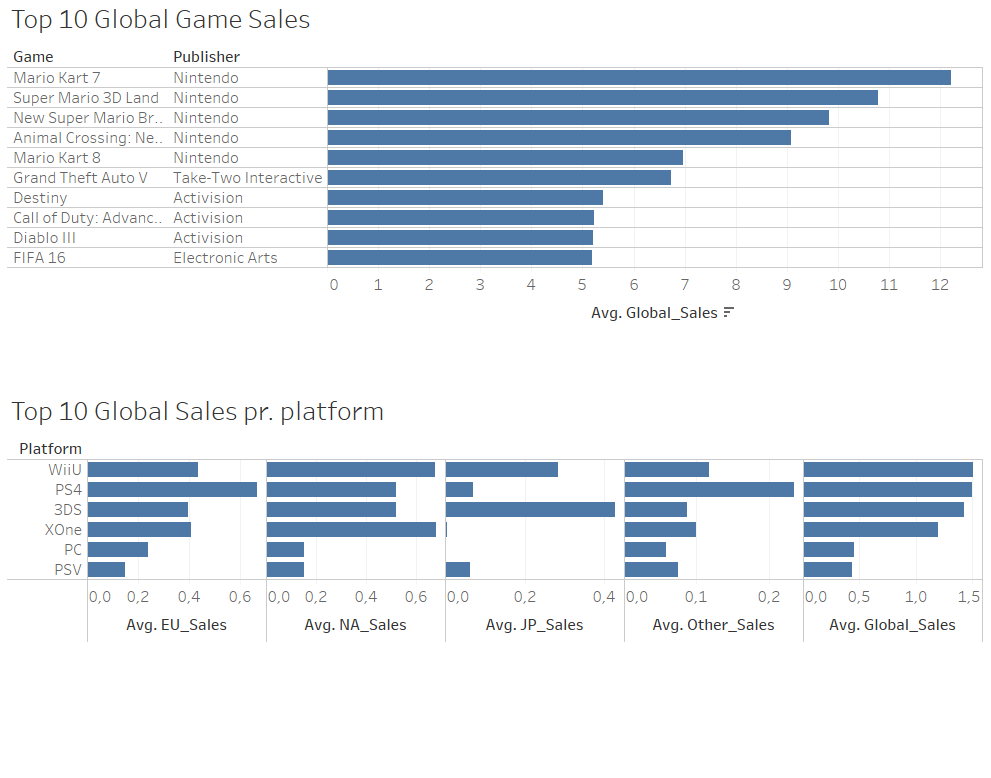

The page's visual inventory and layout, read from the dashboard file:
{"tool":"tableau","page":{"name":"Dashboard 2","canvas":[1000,800],"ordinal":1},"visuals":[{"type":"worksheet","box":[0,0,1000,800]},{"type":"worksheet","title":"Top 10 Global Game Sales","mark":"Automatic","rows":["Game","Publisher"],"cols":["Global_Sales"],"box":[8,8,984,392]},{"type":"worksheet","title":"Top 10 Global Sales pr. platform","mark":"Automatic","rows":["Platform"],"cols":["EU_Sales","NA_Sales","JP_Sales","Other_Sales","Global_Sales"],"box":[8,400,984,392]}]}

Visuals, with their boxes in screenshot pixels (x1, y1, x2, y2), scaled from the page's 1000x800 canvas onto the 991x778 screenshot:
worksheet: l=0, t=0, r=990, b=777
"Top 10 Global Game Sales" worksheet: l=8, t=8, r=983, b=389
"Top 10 Global Sales pr. platform" worksheet: l=8, t=389, r=983, b=770
